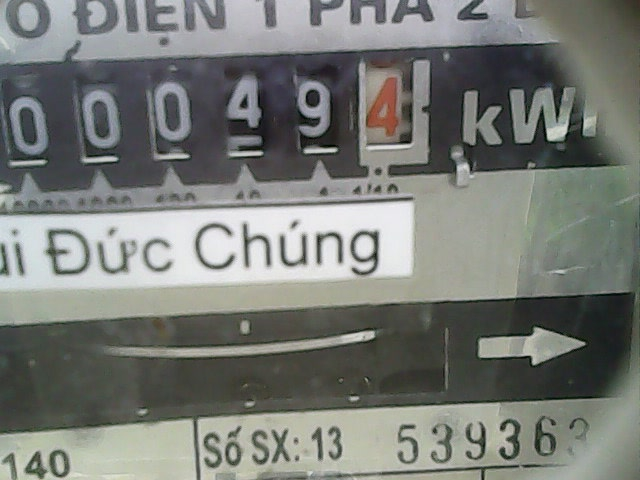phy_plate: (1, 44, 439, 178)
